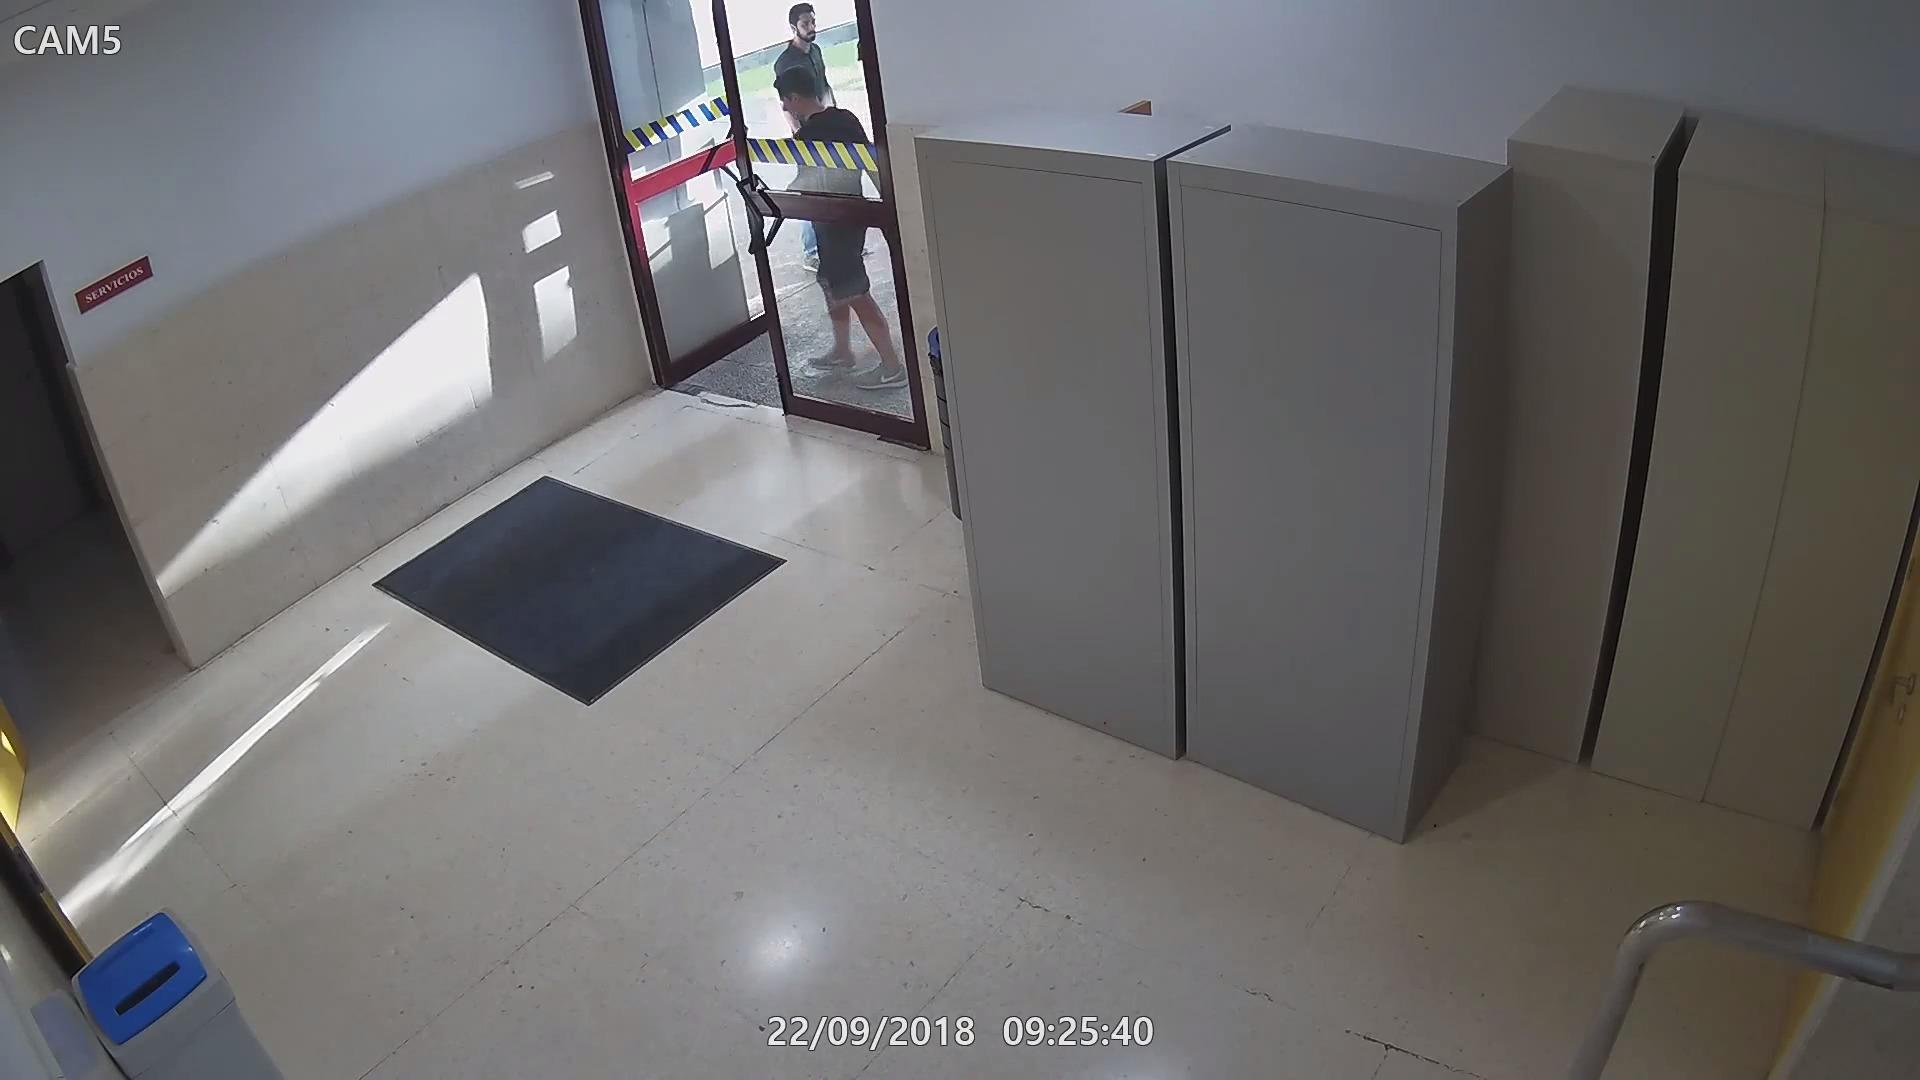Handgun: (861, 224, 891, 260)
